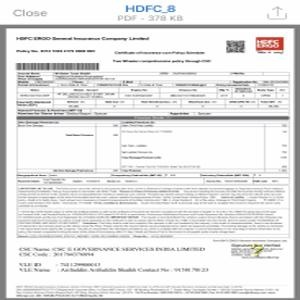image: (254, 35, 285, 53)
table: (16, 116, 291, 177), (17, 70, 290, 115)
text: (18, 184, 287, 238), (18, 246, 211, 275), (13, 33, 150, 45)
